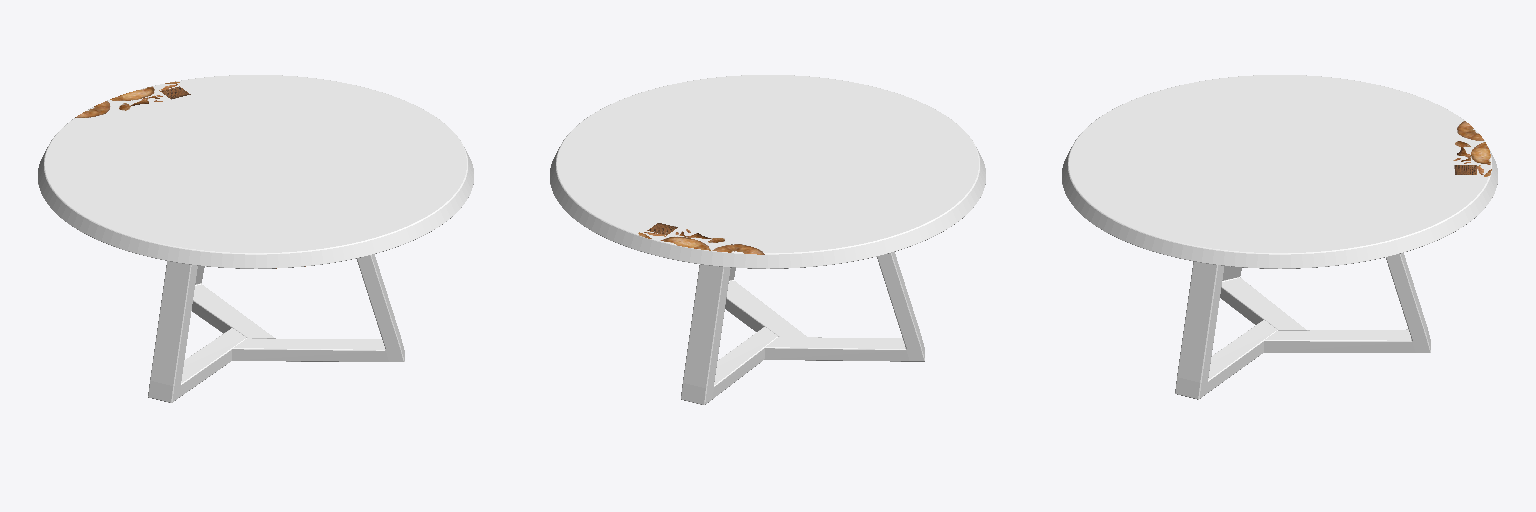
3 views of the same model, side by side, from view 1: azimuth 30°, elevation 25°; view 2: azimuth 150°, elevation 25°; view 3: azimuth 270°, elevation 25° (orthographic).
Bounding box in the file's own units: 155 × 71.91 × 155.
1 materials, 1 textured.